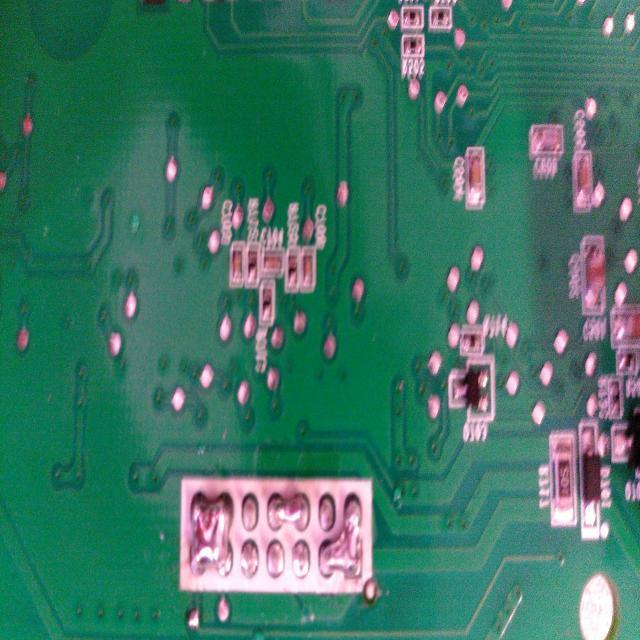Soldering shorted: (315, 491, 364, 586), (186, 487, 235, 581), (264, 488, 312, 534)
